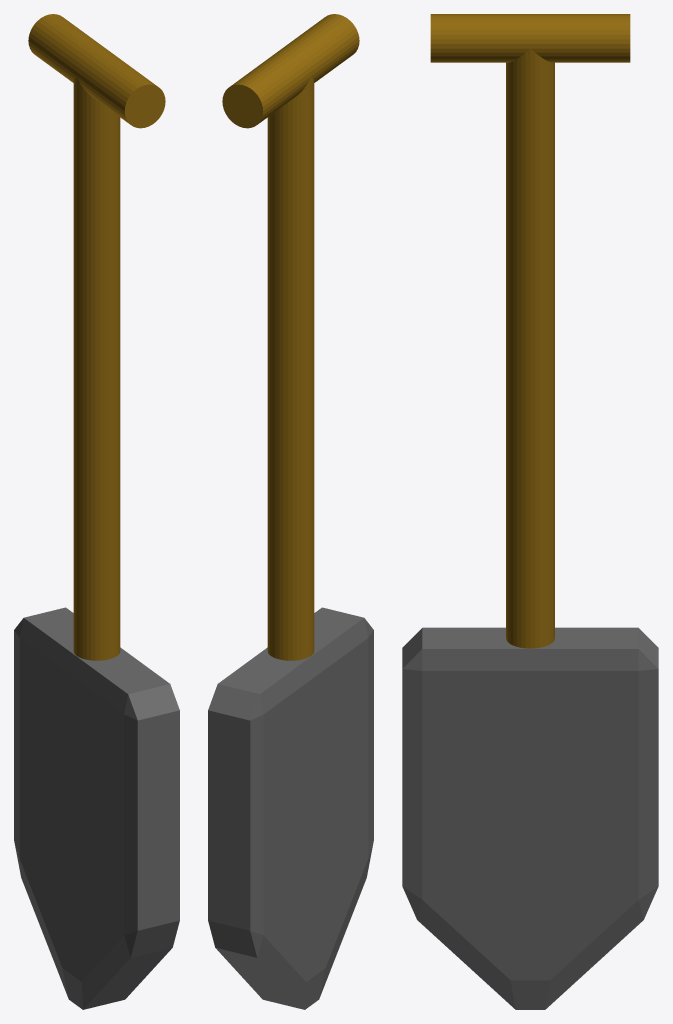
File: Shovel.fbx
3 renders of one model, left to right at view 1: azimuth 30°, elevation 25°; view 2: azimuth 150°, elevation 25°; view 3: azimuth 270°, elevation 25°, orthographic. The views are drawn at different scales.
Visible parts, largest first — view 1: DeadWoorHangle; view 2: DeadWoorHangle; view 3: DeadWoorHangle.
Boxes of the visible parts, left/top/right/bottom form: DeadWoorHangle: left=14, top=14, right=179, bottom=1009; DeadWoorHangle: left=208, top=14, right=373, bottom=1009; DeadWoorHangle: left=402, top=14, right=658, bottom=1009.
Size of the model in its own units: 245 by 4452 by 1051.
